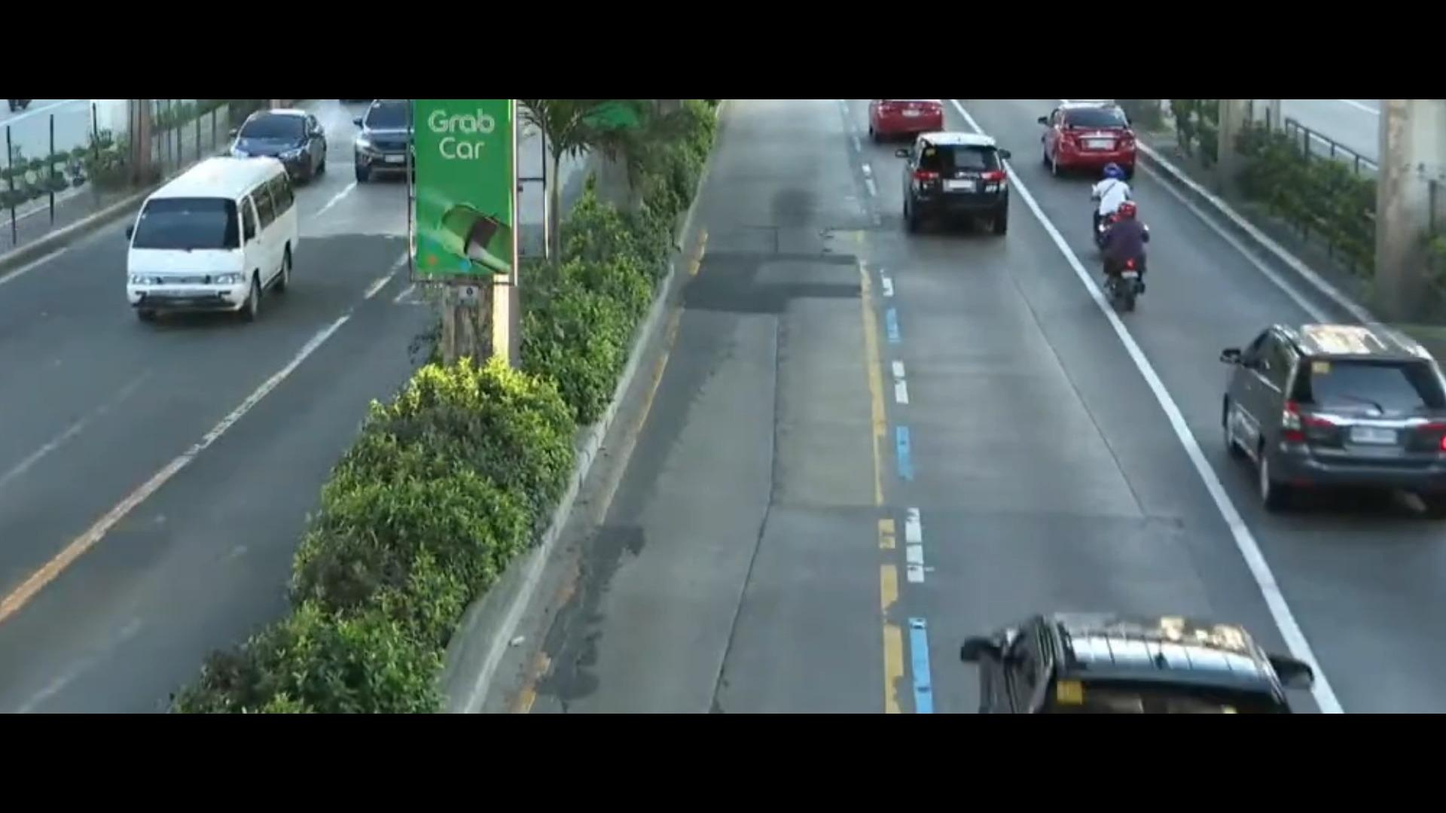Motorcycle: (1076, 224, 1175, 336), (1080, 161, 1148, 254)
SUV: (929, 537, 1319, 721), (1206, 287, 1446, 535), (885, 133, 1025, 260), (1023, 93, 1140, 165), (342, 98, 425, 198)
Sedan: (216, 98, 322, 185)
Van: (105, 154, 312, 346)
